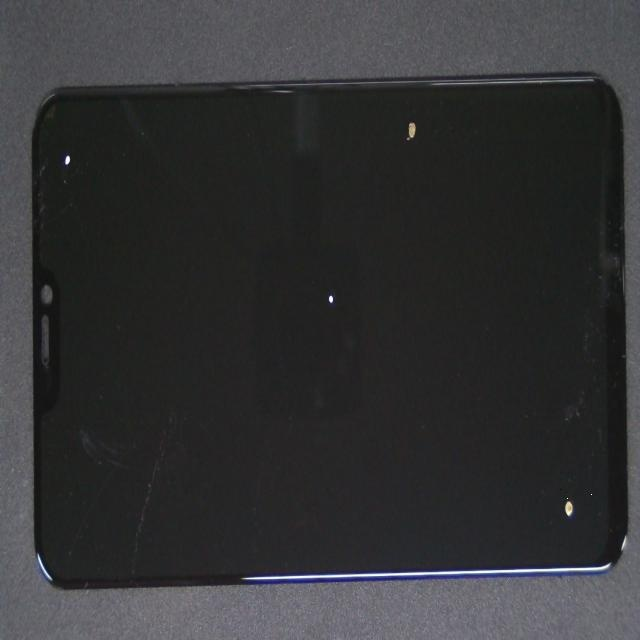stain: (278, 207, 640, 640), (176, 94, 487, 415), (198, 83, 597, 250), (49, 44, 98, 225)
